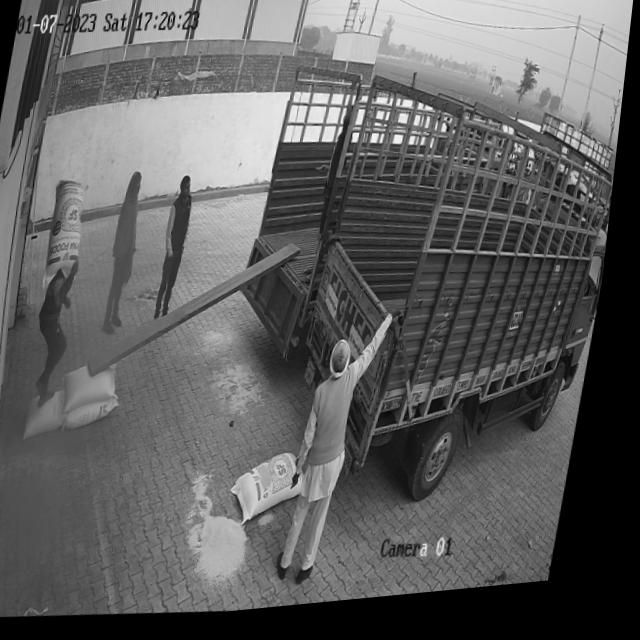sack: (237, 453, 320, 532), (45, 178, 97, 289), (65, 362, 128, 417), (31, 386, 79, 443), (73, 393, 130, 435)
